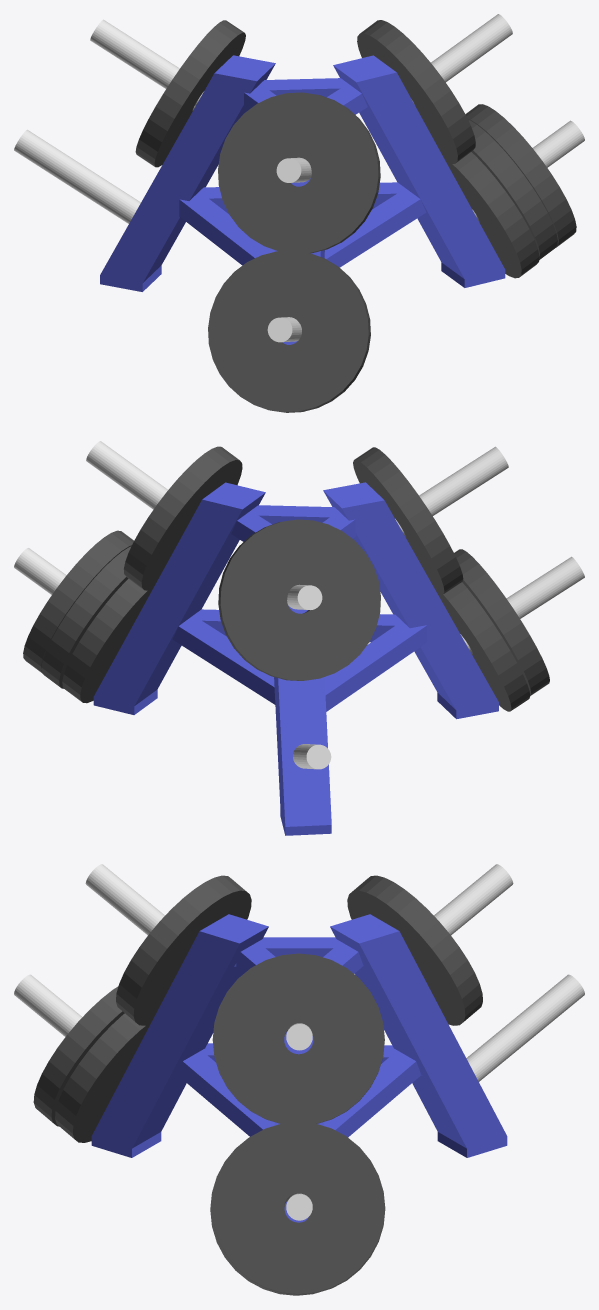
File: WeightPlateStand.fbx
3 renders of one model, top to bottom at view 1: azimuth 30°, elevation 25°; view 2: azimuth 150°, elevation 25°; view 3: azimuth 270°, elevation 25°, orthographic. The views are drawn at different scales.
Parts seen in each view (by area): view 1: Cylinder.006, Cylinder.007, Cube, Cube.001, Cylinder.005, Cylinder.002, Cylinder.011, Cylinder.003, Cube.002, Cylinder.004, Cylinder.010, Cube.003 (+3 smaller); view 2: Cylinder.006, Cube.001, Cube, Cylinder.005, Cylinder.002, Cylinder.009, Cube.002, Cylinder.007, Cylinder.003, Cylinder.004, Cube.003, Cylinder.010 (+4 smaller); view 3: Cube.001, Cylinder.003, Cylinder.005, Cylinder.006, Cylinder.011, Cylinder.009, Cube.002, Cylinder.010, Cylinder.007, Cube.005, Cube.004, Cylinder.001 (+2 smaller).
Boxes of the visible parts, x1,y1,x2,y2 form: Cylinder.006: (135, 20, 380, 253); Cylinder.007: (208, 250, 370, 412); Cube: (333, 55, 505, 287); Cube.001: (100, 55, 324, 344); Cylinder.005: (357, 20, 475, 163); Cylinder.002: (446, 152, 539, 278); Cylinder.011: (14, 129, 301, 342); Cylinder.003: (465, 104, 576, 247); Cube.002: (199, 182, 426, 267); Cylinder.004: (468, 119, 557, 259); Cylinder.010: (90, 19, 311, 182); Cube.003: (179, 191, 274, 265); Cylinder.006: (218, 447, 463, 680); Cube.001: (274, 482, 498, 835); Cube: (93, 482, 265, 714); Cylinder.005: (123, 446, 242, 590); Cylinder.002: (62, 578, 152, 703); Cylinder.009: (437, 582, 530, 711); Cube.002: (172, 609, 406, 704); Cylinder.007: (454, 549, 549, 695); Cylinder.003: (23, 530, 133, 673); Cylinder.004: (41, 546, 131, 688); Cube.003: (324, 625, 426, 711); Cylinder.010: (287, 446, 508, 609); Cube.001: (91, 914, 507, 1157); Cylinder.003: (212, 1122, 384, 1294); Cylinder.005: (212, 953, 384, 1123); Cylinder.006: (116, 875, 482, 1025); Cylinder.011: (14, 974, 584, 1081); Cylinder.009: (55, 1013, 149, 1142); Cube.002: (178, 1051, 420, 1137); Cylinder.010: (85, 864, 513, 935); Cylinder.007: (33, 986, 124, 1126); Cube.005: (234, 937, 351, 966); Cube.004: (236, 946, 363, 973); Cylinder.001: (286, 1023, 312, 1050).
Size of the model in its own units: 944 by 541 by 974.
